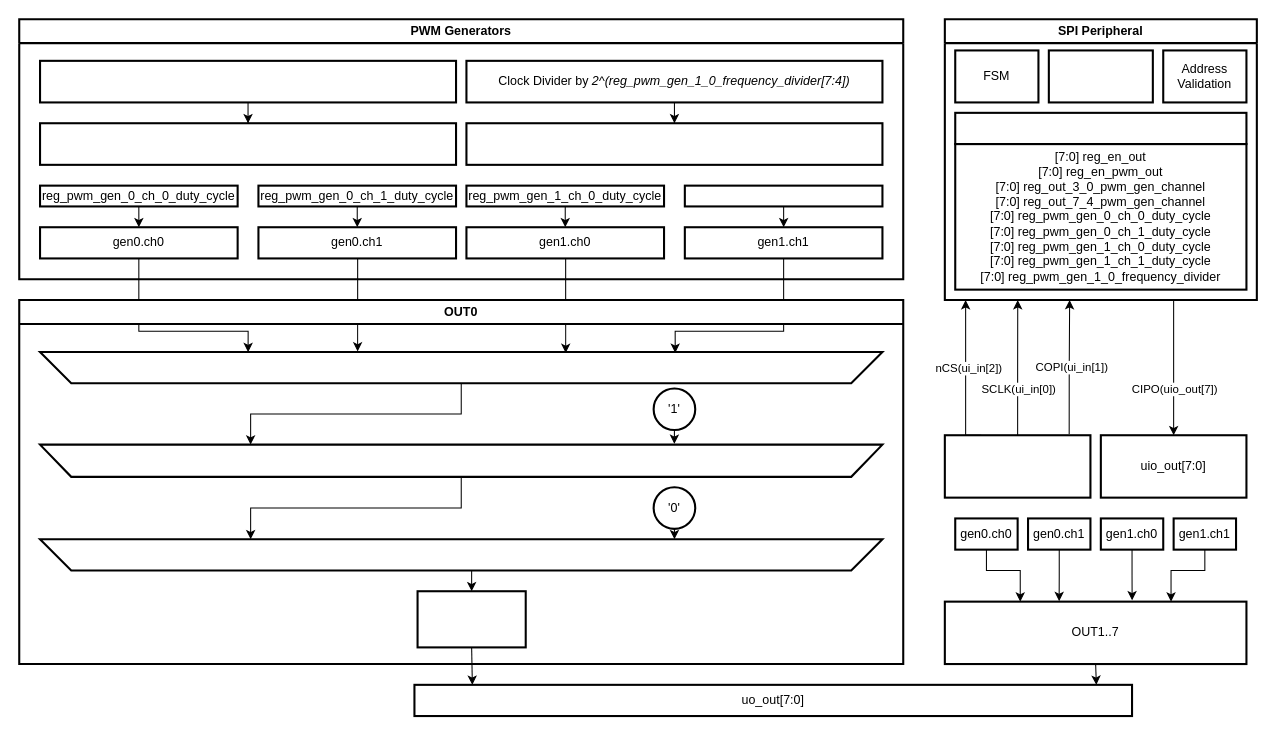
Some shapes in this 1275 by 734 pixel diagram are drawn without their labels. The box of each missing label's shape, as (x1, y1, x2, y2) in pixels:
Clock Divider by 2^(reg_pwm_gen_1_0_frequency_divider[3:0]): (38, 59, 457, 103)
Clock Domain Crossing Synchronizer: (1047, 49, 1153, 103)
MUX0 (select via reg_out_3_0[1:0]): (38, 350, 883, 384)
out[0]: (416, 590, 526, 648)
PWM Generator 0: (38, 122, 457, 165)
PWM Generator 1: (465, 122, 883, 165)
reg_en_out[0]: (38, 538, 883, 571)
reg_en_pwm_out[0]: (38, 443, 883, 477)
reg_pwm_gen_1_ch_1_duty_cycle: (683, 184, 883, 207)
Register File: (954, 111, 1247, 145)
ui_in[7:0]: (943, 434, 1091, 498)
